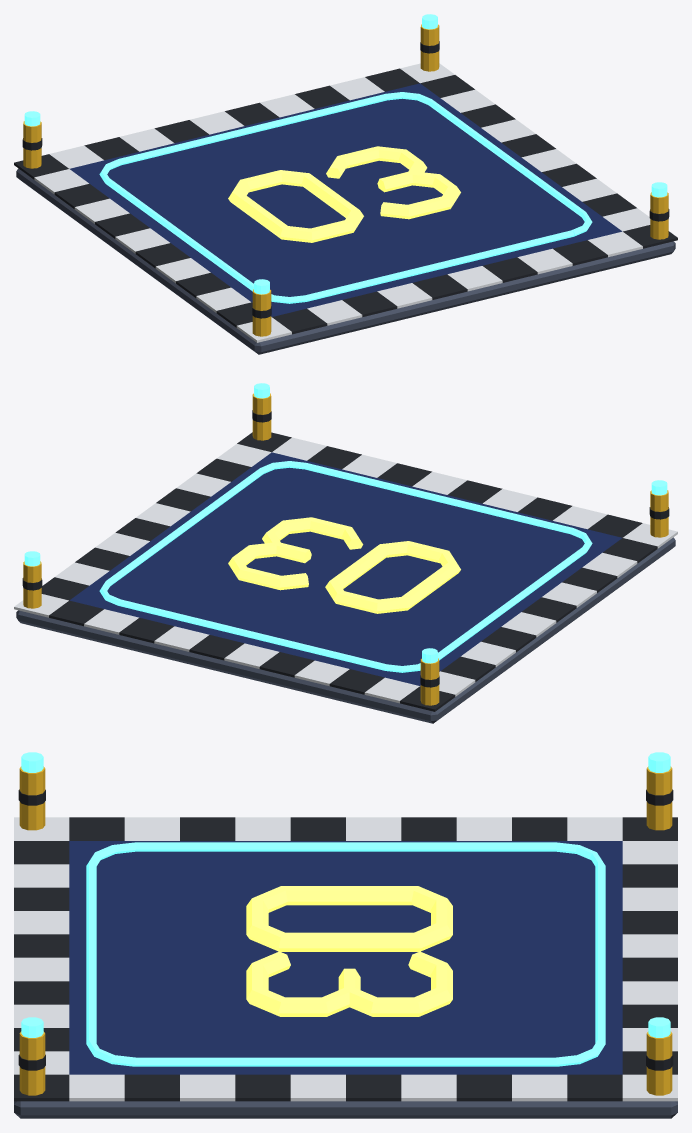
File: JoinPad_03.fbx
3 renders of one model, top to bottom at view 1: azimuth 30°, elevation 25°; view 2: azimuth 150°, elevation 25°; view 3: azimuth 270°, elevation 25°, orthographic. The views are drawn at different scales.
Visible parts, largest first — view 1: JoinPad_03, Neon_Cyan, Neon_Yellow; view 2: JoinPad_03, Neon_Cyan, Neon_Yellow; view 3: JoinPad_03, Neon_Cyan, Neon_Yellow.
Part boxes in pixels (<box>): JoinPad_03: <box>14,24,677,354</box>; Neon_Cyan: <box>24,14,667,303</box>; Neon_Yellow: <box>228,146,460,242</box>; JoinPad_03: <box>14,393,677,723</box>; Neon_Cyan: <box>24,383,667,672</box>; Neon_Yellow: <box>228,517,460,613</box>; JoinPad_03: <box>14,766,677,1118</box>; Neon_Cyan: <box>21,752,670,1066</box>; Neon_Yellow: <box>246,886,452,1016</box>.
Size of the model in its own units: 18 by 2.75 by 18.
Materials: 3 (1 with a texture image).
